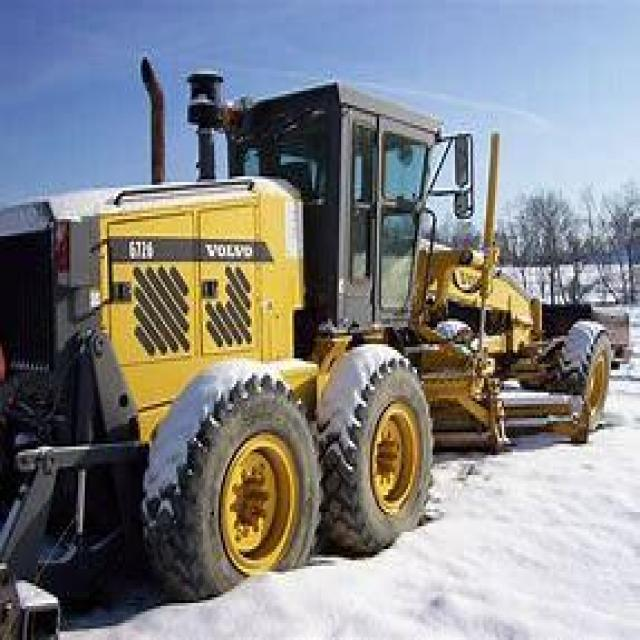Grader: (2, 45, 638, 606)
